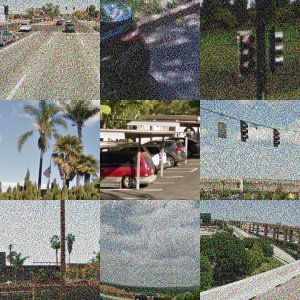樓梯: (110, 224, 175, 282)
汽車: (26, 258, 86, 294), (252, 265, 281, 286), (6, 251, 31, 265), (263, 136, 284, 151), (237, 139, 258, 152)
紅綠燈: (4, 211, 59, 229)
